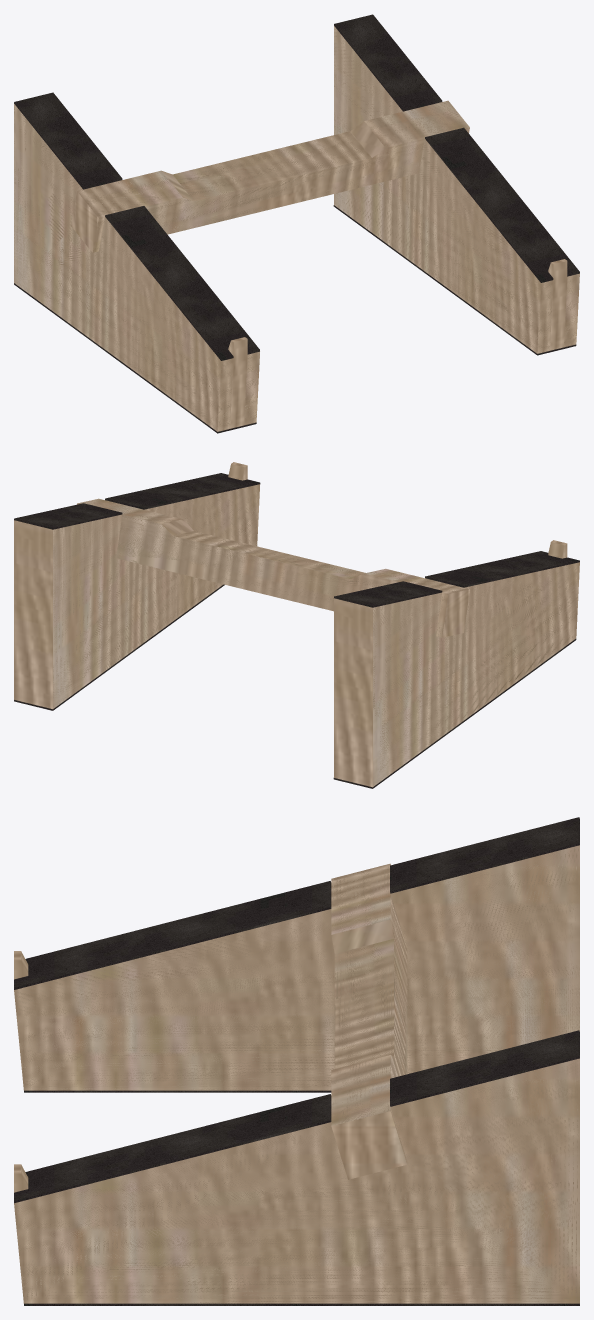
The model's file is base-baja-de-laptop.glb.
3 views of the same model, one above another, from view 1: azimuth 30°, elevation 25°; view 2: azimuth 150°, elevation 25°; view 3: azimuth 270°, elevation 25° (orthographic). The views are drawn at different scales.
Bounding box in the file's own units: 0.238 × 0.112 × 0.23.
Materials: 3 (3 with a texture image).
